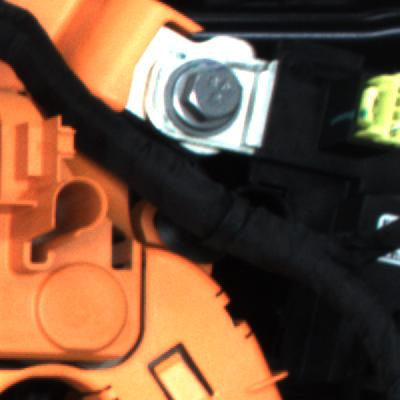nut_b: (156, 52, 254, 145)
